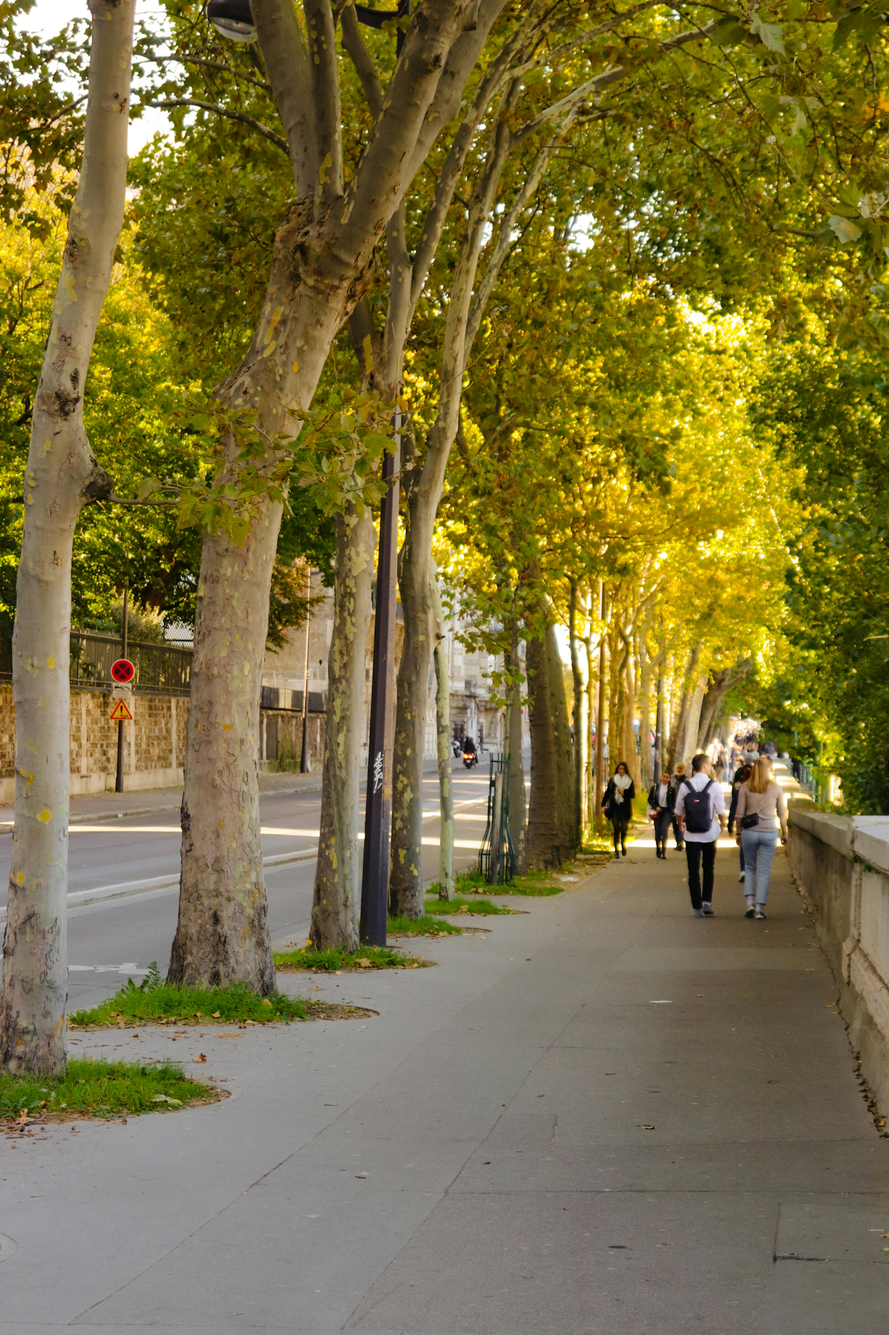Person: (667, 745, 731, 921), (728, 749, 792, 924)
Tree: (200, 0, 629, 874), (145, 0, 405, 1036)
